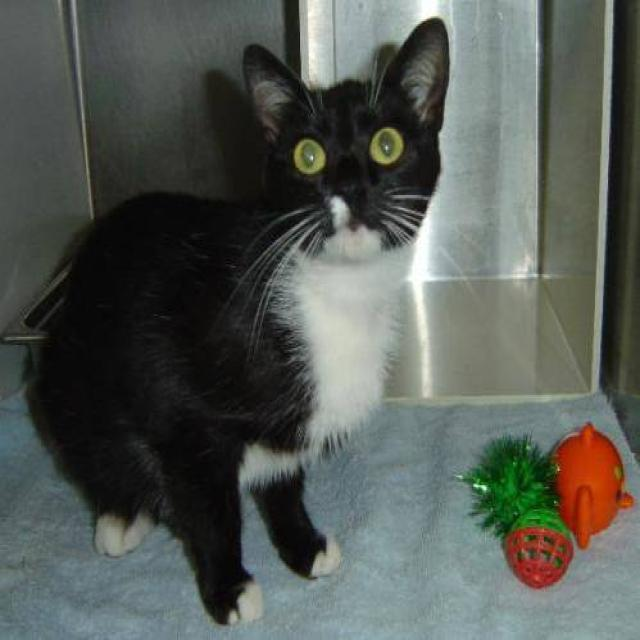cat: (21, 14, 450, 626)
